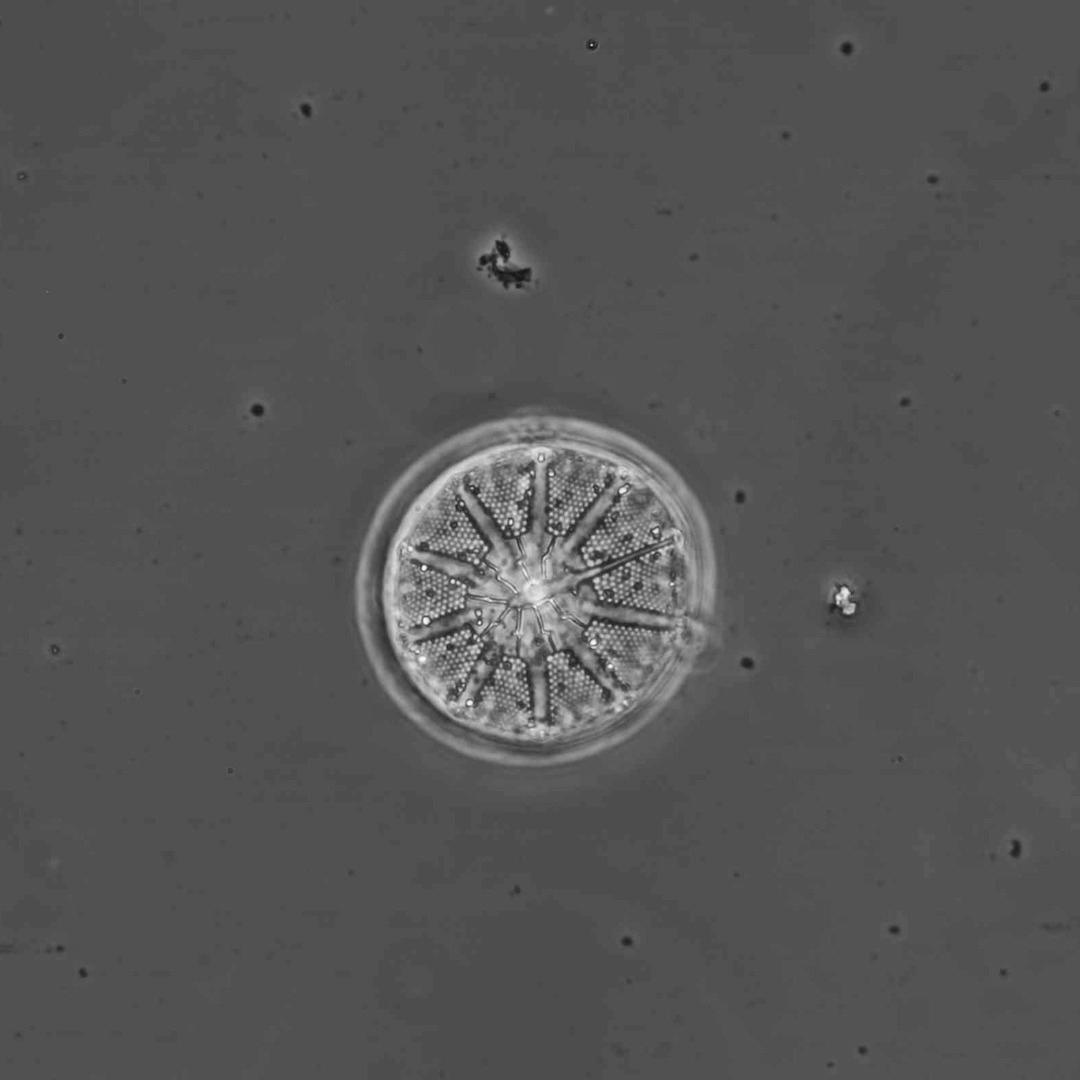asteromphalus_hyalinus: (382, 439, 698, 748)
